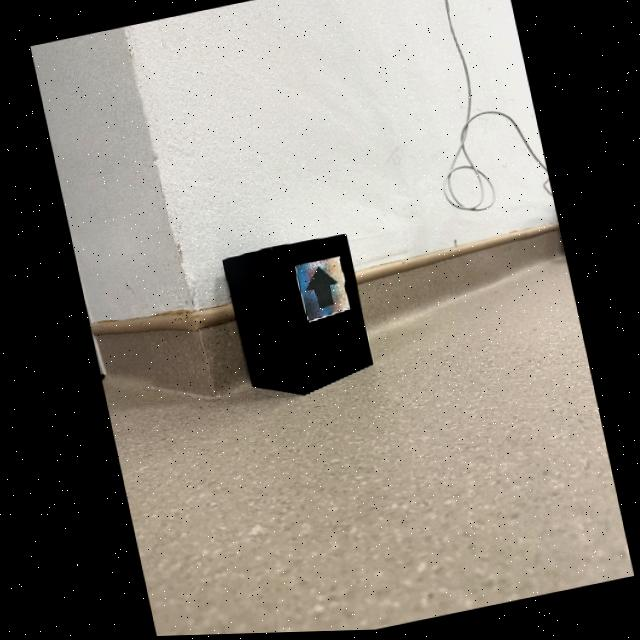UP: (303, 267, 336, 311)
